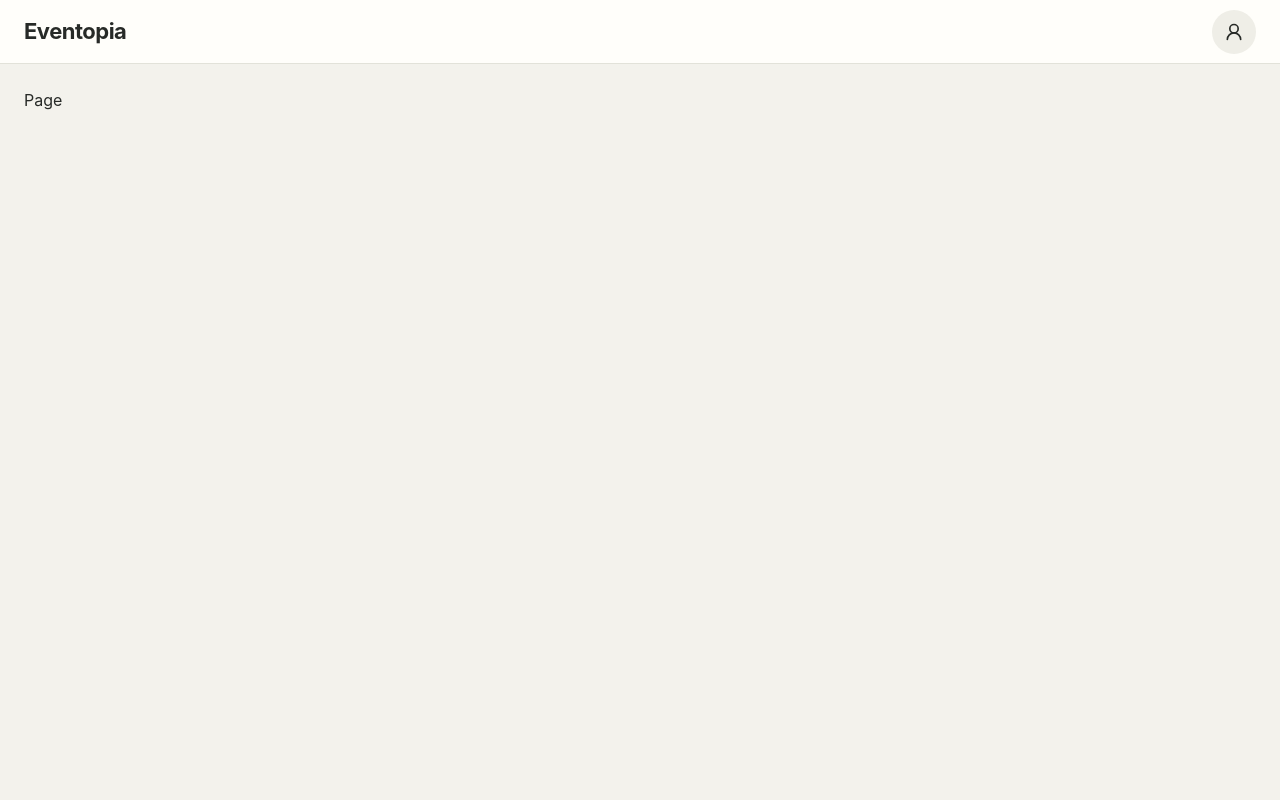
it: keeps rejected logout feedback visible after auth becomes anonymous and offers retry
What coordinates should you click on to do the following:
click the button named "Account"
I would click on:
 (1234, 32)
Its box is [1212,10,1256,54].
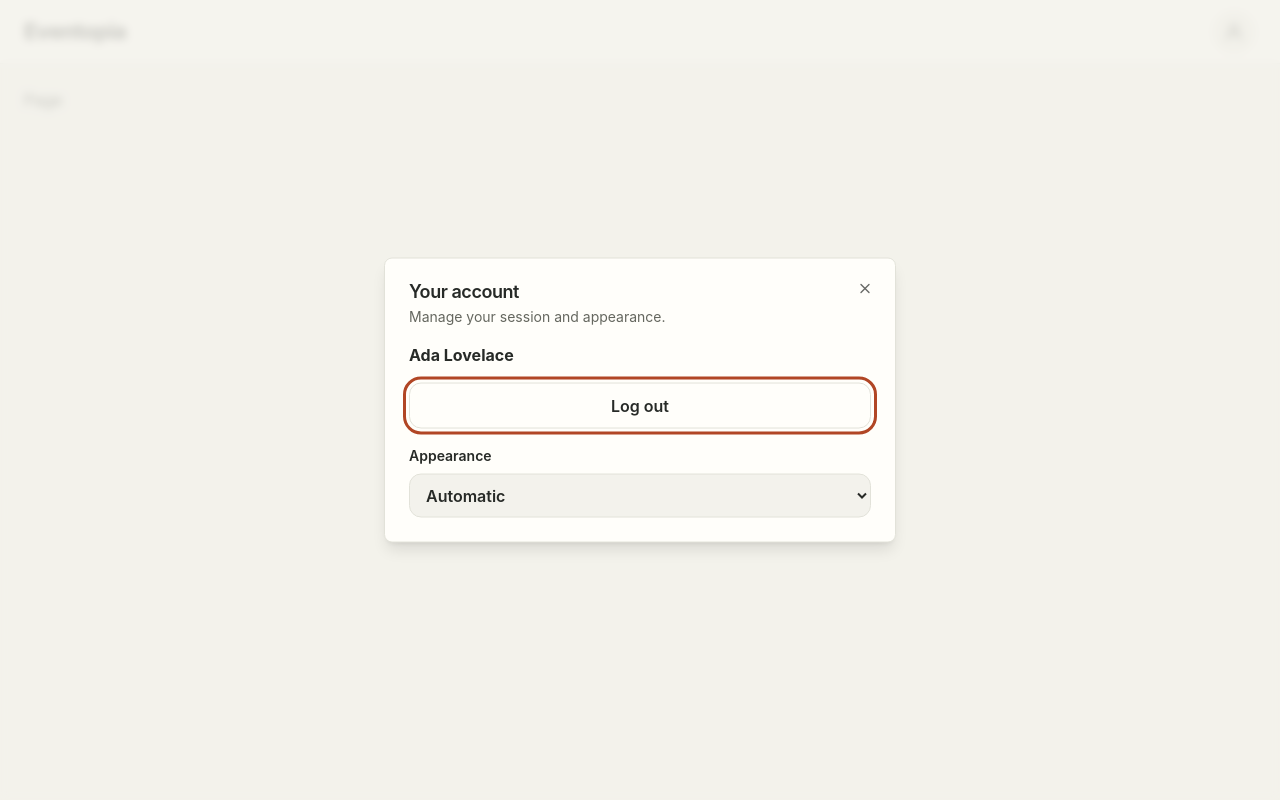
What coordinates should you click on to do the following:
click the button "Log out"
I would click on:
 (640, 406)
Its box is [409,382,871,428].
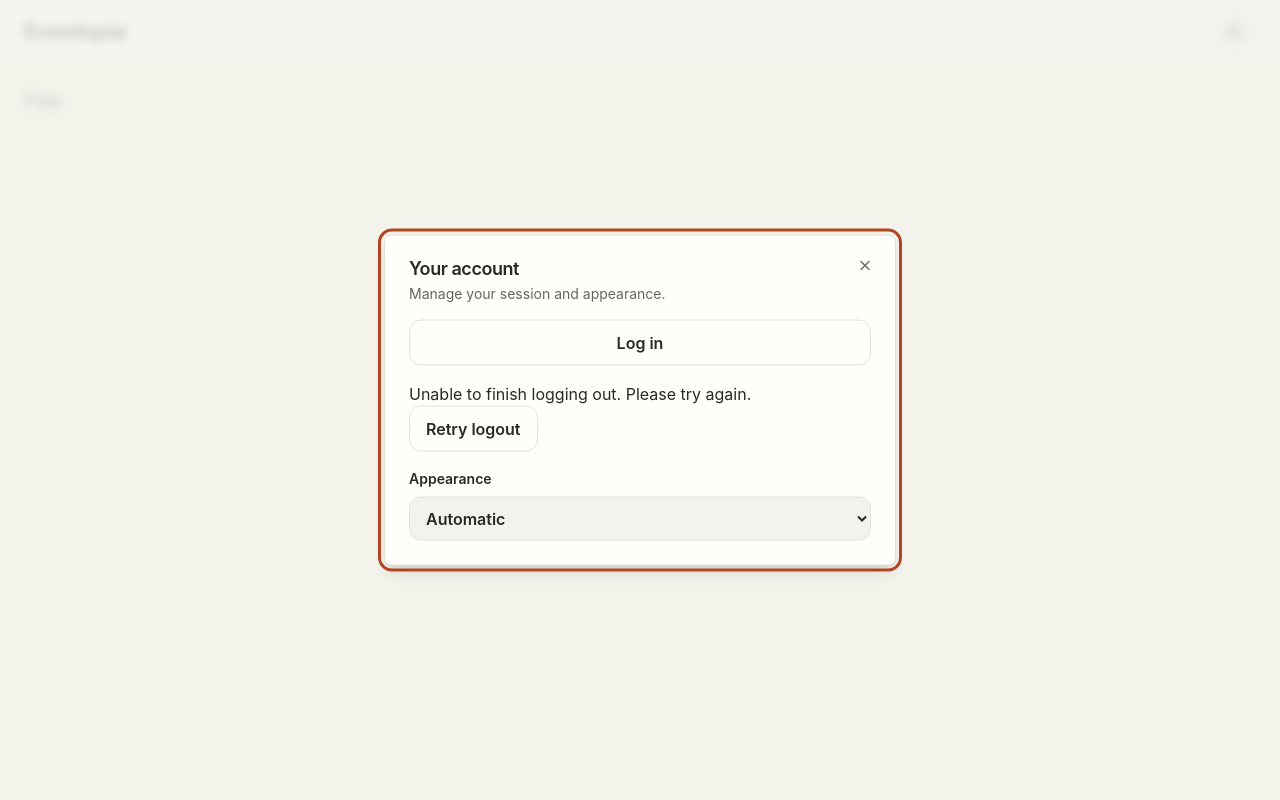
Expected: the message shows "Unable to finish logging out", [409,384,751,404]
What coordinates should you click on to do the following:
click the button "Retry logout"
I would click on:
 (473, 428)
Its box is [409,406,538,452].
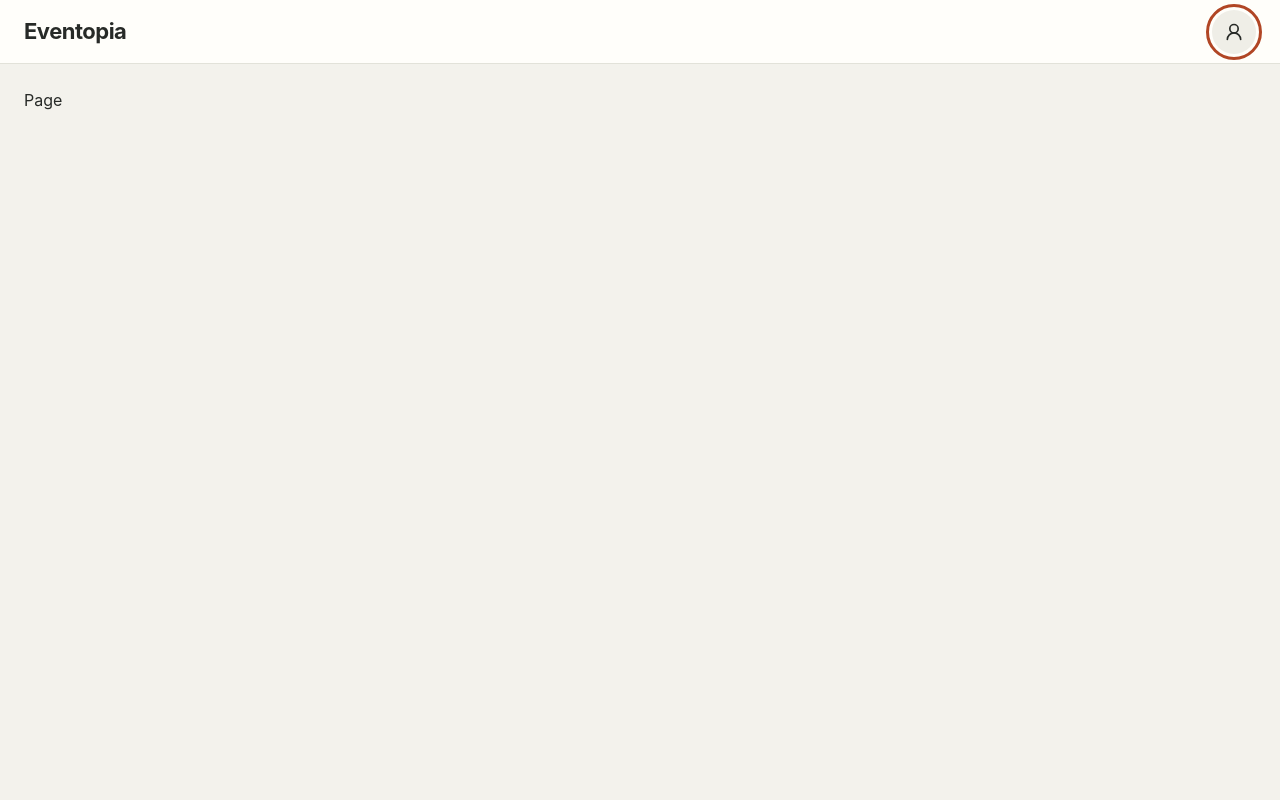
Expected: the dialog is gone
